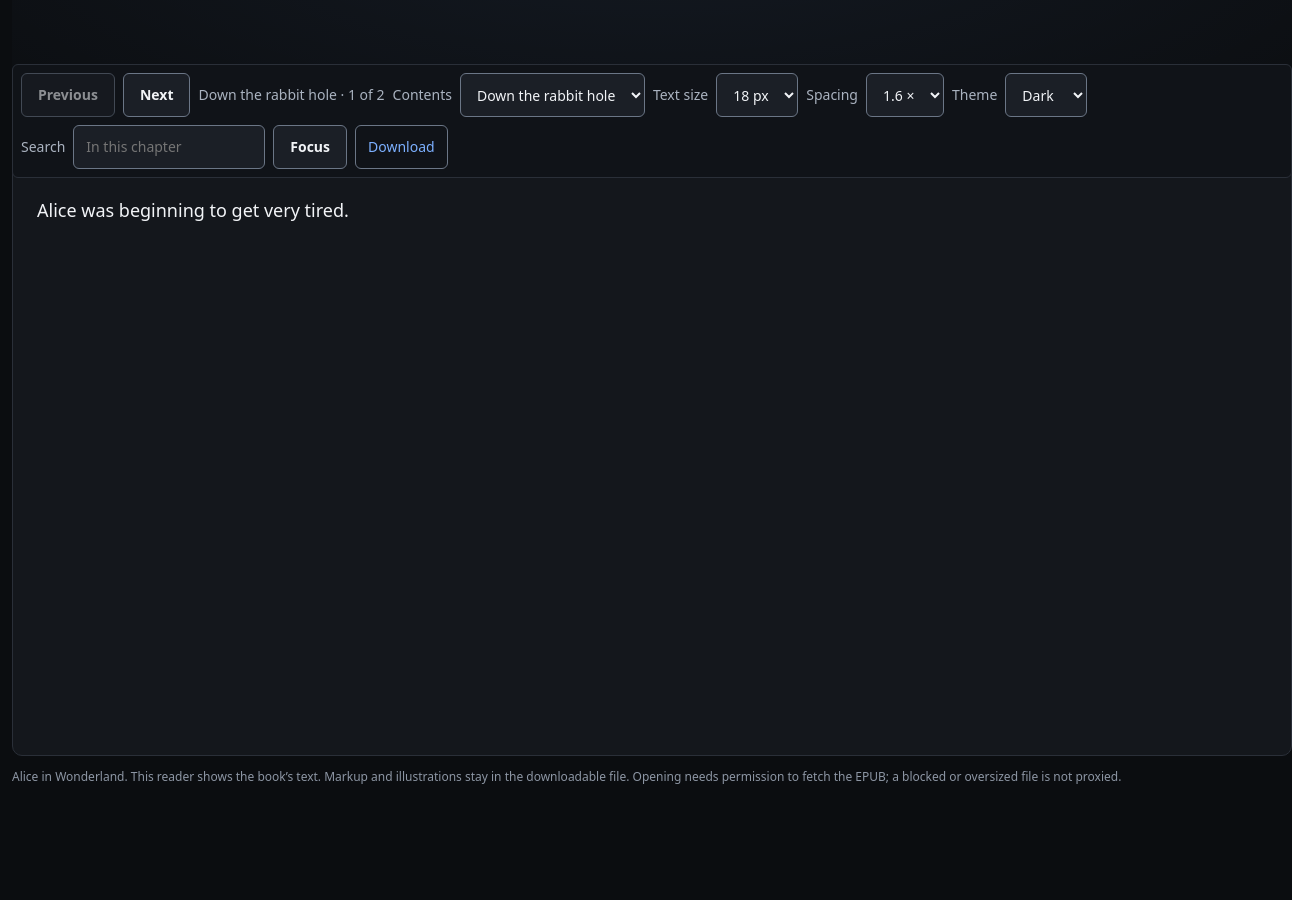
Test: BookReader › moves to the next chapter from the table of contents
The width and height of the screenshot is (1292, 900).
Expected: the text "Alice was beginning to get very tired." is shown, x1=37 y1=198 x2=349 y2=222
Select "The pool of tears" in the dropdown labelled "Contents" at x=552, y=95, box x1=460 y1=73 x2=645 y2=117
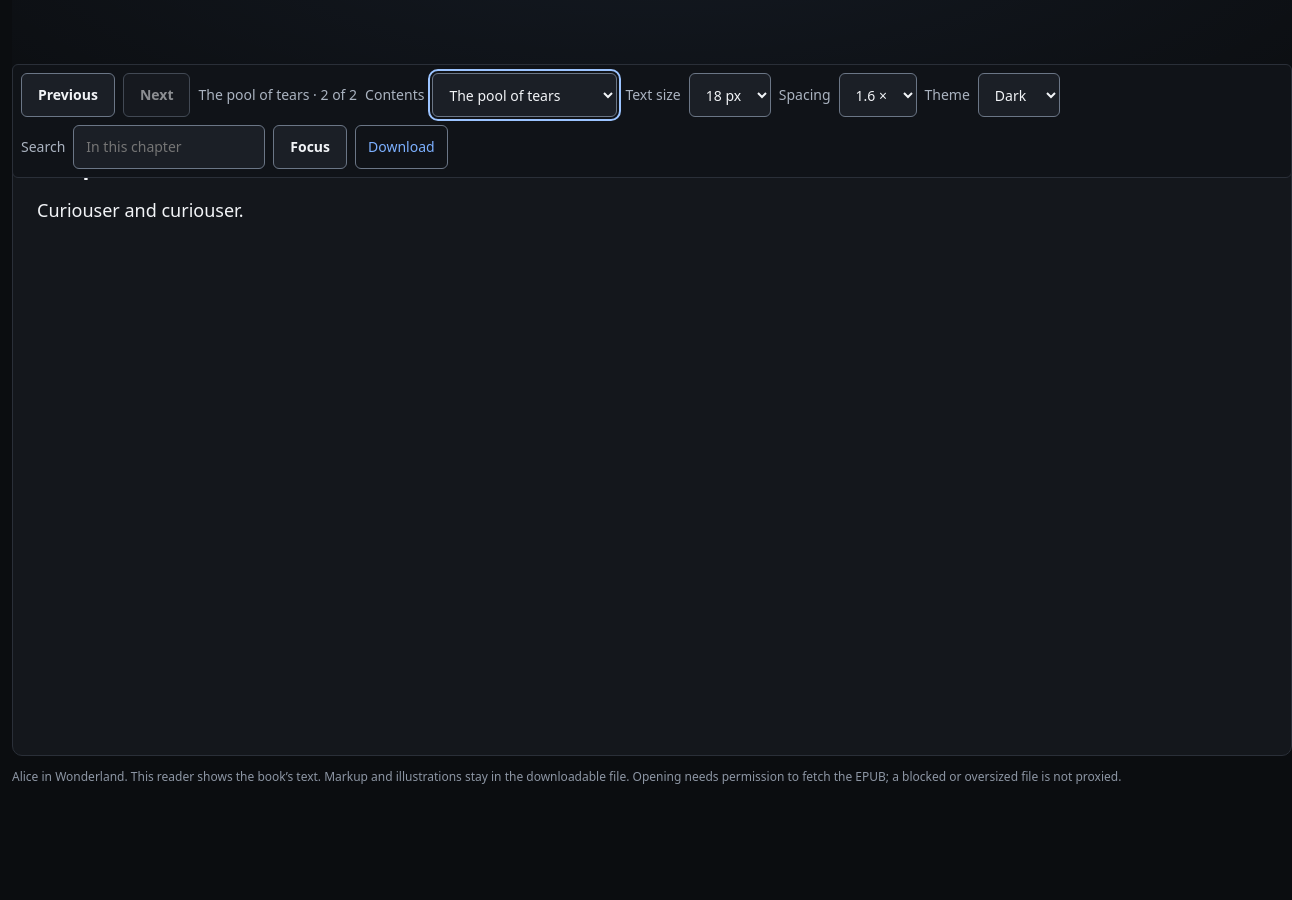
Expected: the text "Curiouser and curiouser." is shown, x1=37 y1=198 x2=244 y2=222
